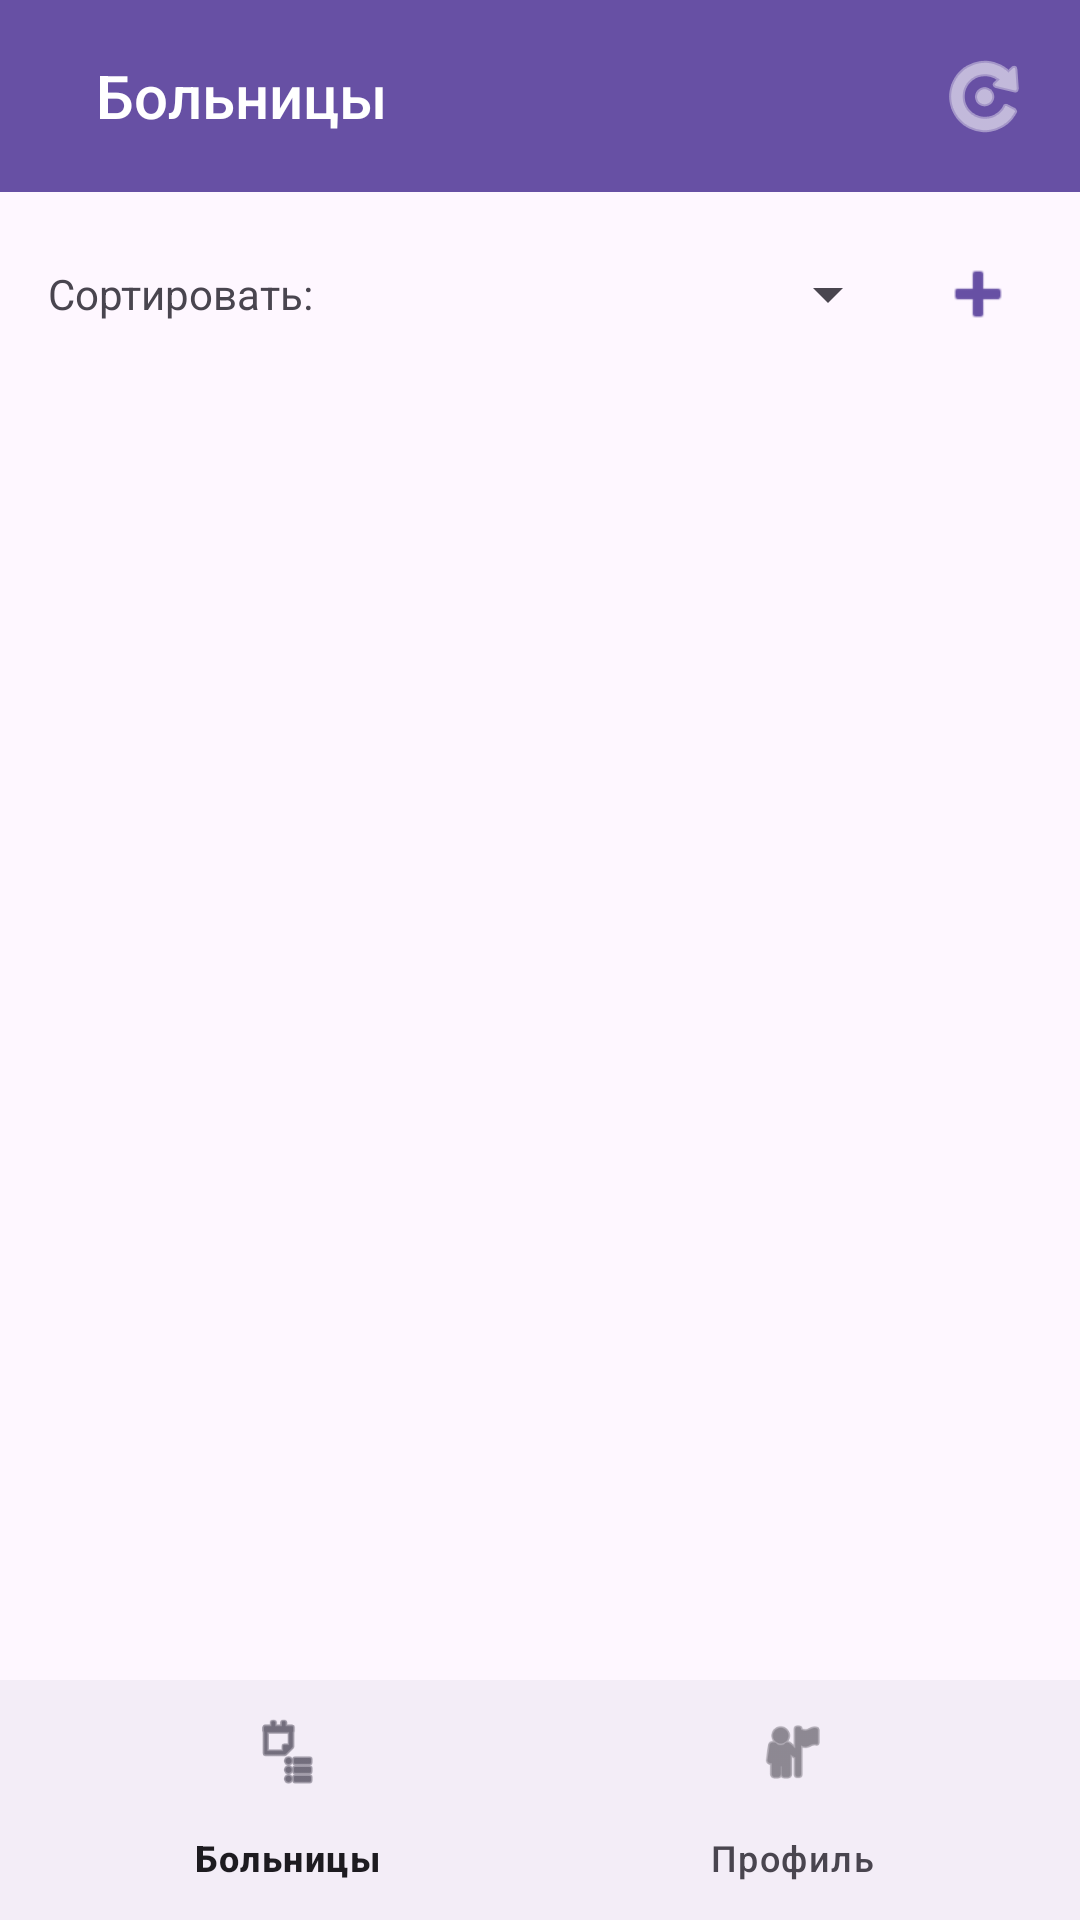

Where to tap for icons on this 1080px x 1920px app screen, as point (x, y):
Добавить больницу: point (978, 294)
Обновить: point (984, 96)
